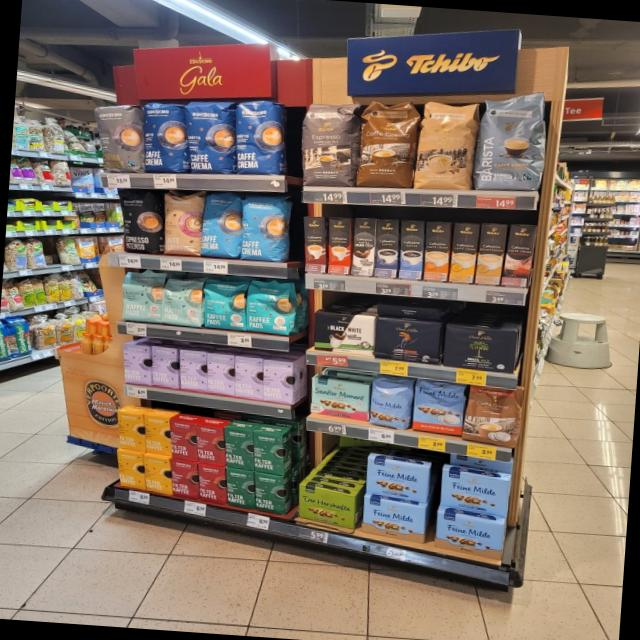BM Gemahlen: (440, 322, 520, 374)
BW Gemahlen: (310, 310, 376, 358)
Barista CC: (474, 94, 548, 194)
CC Mild: (412, 98, 476, 190)
CC Vollmundig: (462, 383, 521, 448)
CC Vollmundig 36 Pads: (356, 95, 416, 188)
Espresso M Art: (297, 98, 359, 188)
FM 36 Pads: (411, 378, 465, 438)
FM Bohne: (369, 377, 412, 430)
FM Gemahlen: (436, 467, 511, 517), (432, 510, 507, 559), (358, 492, 428, 544), (363, 456, 432, 503)
Herzhatfe Mundig: (295, 482, 357, 528)
LG Gemahlen: (372, 316, 442, 366)
SM Gemahlen: (306, 375, 371, 423)
Simo CC Colombia: (501, 225, 536, 287)
Simo CCMild bigpack: (450, 222, 477, 282)
Simo CCVollmundig bigpack: (422, 220, 450, 280)
Simo Decaff: (475, 222, 506, 284)
Simo Es Brazil: (327, 217, 351, 274)
Simo Es Caramel: (304, 217, 325, 272)
Simo Es Elegant: (350, 217, 376, 274)
Simo Es Kraft: (374, 219, 399, 277)
Simo Es Vanilla: (399, 220, 423, 279)
